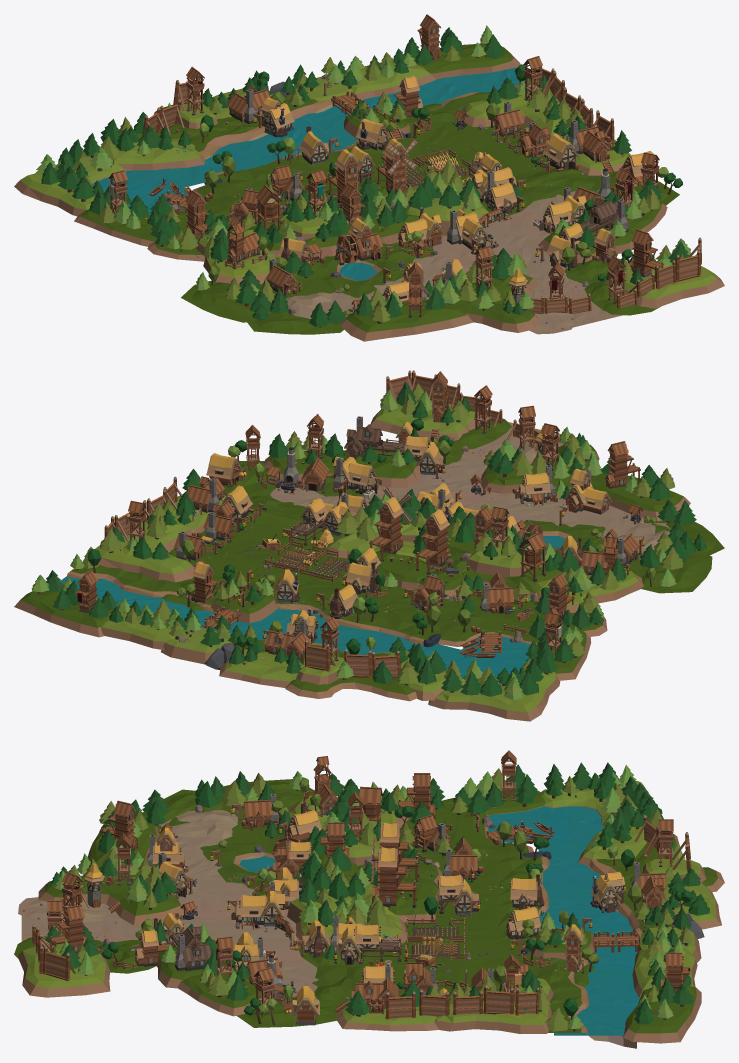
File: River.glb
3 views of the same model, one above another, from view 1: azimuth 30°, elevation 25°; view 2: azimuth 150°, elevation 25°; view 3: azimuth 270°, elevation 25° (orthographic). The views are drawn at different scales.
Visible parts, largest first — view 1: TB_Env_Mound_Med_A (1), TB_Bd_House (×4), TB_Env_Tile_Grass_A (7), TB_Env_Mound_Corner_A, TB_Env_Mound_Corner_B, TB_Env_Mound_Med_B (1), TB_Env_Mound_Med_B (5), TB_Env_Mound_Med_A (2), TB_Env_Tile_Dirt_A (9), TB_Env_Lake, TB_Env_LowMound_A (2), TB_Env_Tile_Water_A (2) (+54 smaller); view 2: TB_Env_Mound_Corner_B, TB_Env_Mound_Corner_B (1), TB_Bd_Wood_Tall (×3), TB_Env_Mound_Corner_A (2), TB_Env_Mound_Med_A (2), TB_Env_Mound_Corner_A (3), TB_Bd_House_Open (×3), TB_Env_Mound_Med_B (5), TB_Env_Tile_Grass_A (5), TB_Env_Lakeside_B (1), TB_Env_Mound_Med_B (2), TB_Env_LowMound_A (8) (+48 smaller); view 3: TB_Env_Mound_Med_B (5), TB_Env_Mound_Corner_B (1), TB_Env_Mound_Corner_A, TB_Env_Mound_Med_A (2), TB_Bd_House (×4), TB_Env_Tile_Water_A (2), TB_Env_Tile_Grass_A (7), TB_Env_Tile_Water_A (9), TB_Bd_Wood_Tall (×3), TB_Env_Tile_Grass_A (6), TB_Env_Mound_Corner_A (2), TB_Env_Tile_Water_A (4) (+72 smaller).
Part boxes in pixels (bbox=[...]): TB_Env_Mound_Med_A (1): bbox=[340, 299, 473, 341]; TB_Bd_House (×4): bbox=[261, 103, 516, 210]; TB_Env_Tile_Grass_A (7): bbox=[387, 118, 494, 163]; TB_Env_Mound_Corner_A: bbox=[452, 274, 540, 332]; TB_Env_Mound_Corner_B: bbox=[14, 155, 126, 216]; TB_Env_Mound_Med_B (1): bbox=[111, 138, 205, 170]; TB_Env_Mound_Med_B (5): bbox=[604, 266, 724, 308]; TB_Env_Mound_Med_A (2): bbox=[413, 43, 520, 79]; TB_Env_Tile_Dirt_A (9): bbox=[483, 207, 550, 254]; TB_Env_Lake: bbox=[305, 255, 407, 297]; TB_Env_LowMound_A (2): bbox=[514, 168, 595, 201]; TB_Env_Tile_Water_A (2): bbox=[232, 116, 345, 165]; TB_Env_Mound_Corner_B: bbox=[428, 672, 560, 721]; TB_Env_Mound_Corner_B (1): bbox=[95, 518, 194, 582]; TB_Bd_Wood_Tall (×3): bbox=[369, 454, 640, 574]; TB_Env_Mound_Corner_A (2): bbox=[433, 606, 539, 646]; TB_Env_Mound_Med_A (2): bbox=[14, 591, 112, 637]; TB_Env_Mound_Corner_A (3): bbox=[285, 655, 417, 701]; TB_Bd_House_Open (×3): bbox=[221, 461, 550, 522]; TB_Env_Mound_Med_B (5): bbox=[370, 400, 478, 440]; TB_Env_Tile_Grass_A (5): bbox=[226, 527, 334, 572]; TB_Env_Lakeside_B (1): bbox=[345, 608, 445, 645]; TB_Env_Mound_Med_B (2): bbox=[219, 649, 304, 687]; TB_Env_LowMound_A (8): bbox=[637, 553, 712, 593]; TB_Env_Mound_Med_B (5): bbox=[17, 943, 110, 997]; TB_Env_Mound_Corner_B (1): bbox=[434, 978, 553, 1033]; TB_Env_Mound_Corner_A: bbox=[38, 864, 183, 925]; TB_Env_Mound_Med_A (2): bbox=[622, 985, 701, 1043]; TB_Bd_House (×4): bbox=[260, 875, 621, 939]; TB_Env_Tile_Water_A (2): bbox=[539, 885, 630, 927]; TB_Env_Tile_Grass_A (7): bbox=[458, 939, 553, 981]; TB_Env_Tile_Water_A (9): bbox=[581, 969, 639, 1011]; TB_Bd_Wood_Tall (×3): bbox=[49, 814, 416, 952]; TB_Env_Tile_Grass_A (6): bbox=[404, 897, 497, 939]; TB_Env_Mound_Corner_A (2): bbox=[442, 811, 533, 858]; TB_Env_Tile_Water_A (4): bbox=[538, 842, 600, 884].
Size of the model in its own units: 124 by 19.21 by 142.
Materials: 2 (2 with a texture image).
